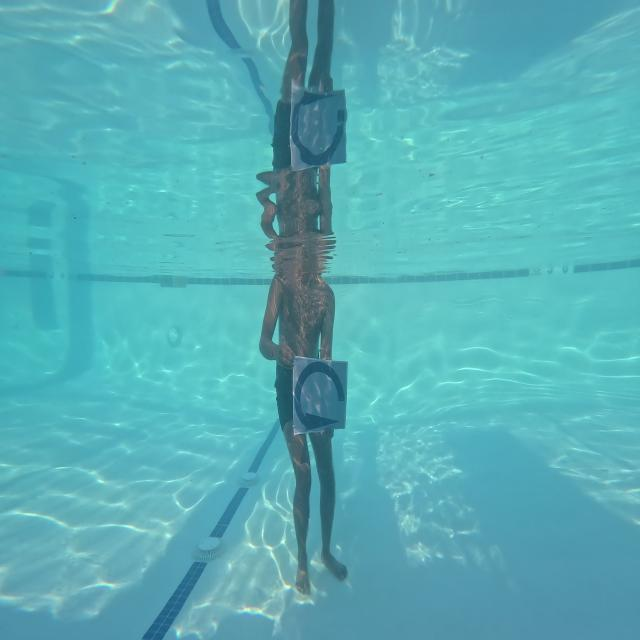blue_side: (292, 351, 348, 442)
